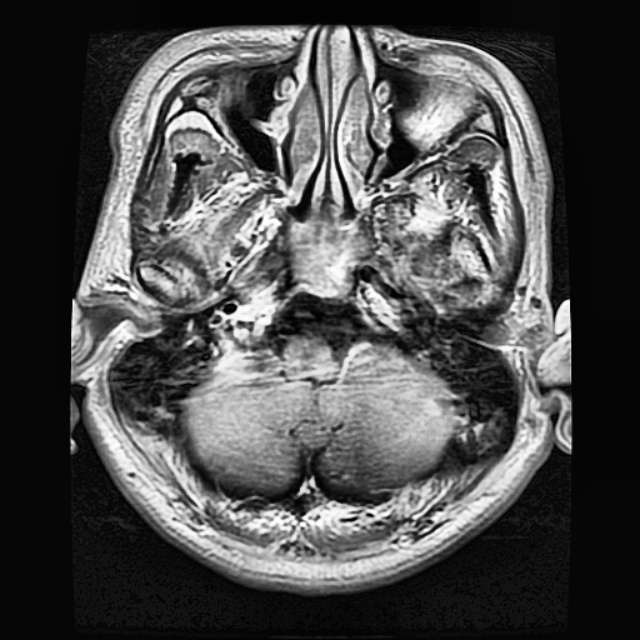Pituitary: (290, 217, 372, 294)
